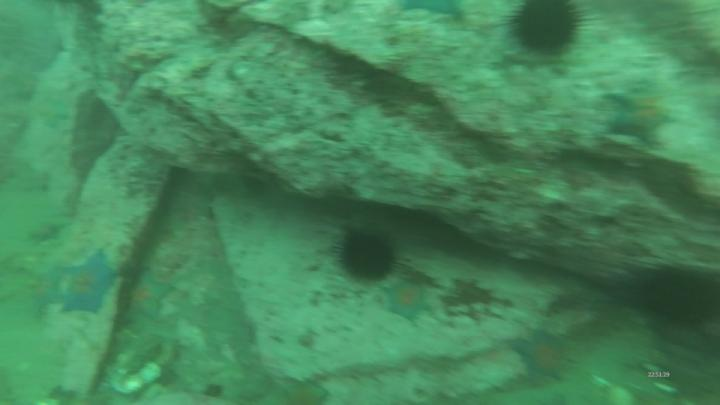echinus: (503, 1, 602, 57), (640, 266, 720, 331), (333, 225, 399, 287)
starfish: (603, 75, 683, 151), (60, 247, 119, 319), (509, 325, 577, 386), (124, 265, 179, 323), (381, 275, 434, 329), (34, 260, 73, 319), (399, 1, 471, 26)
